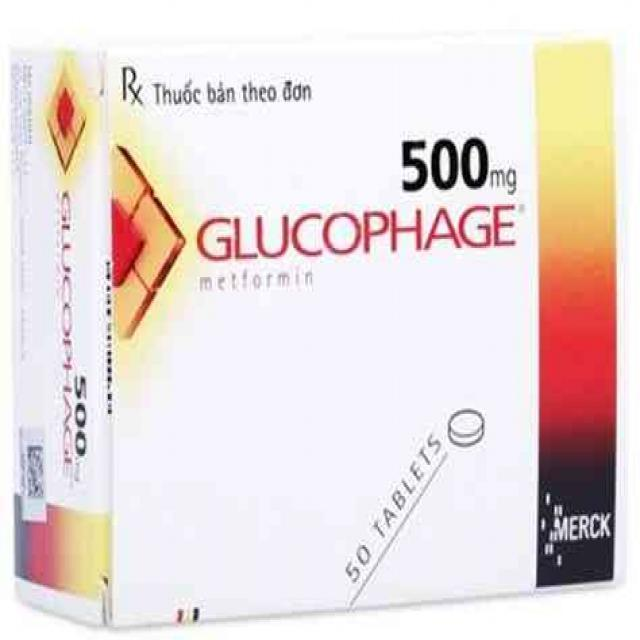drug-name: (194, 200, 524, 262)
